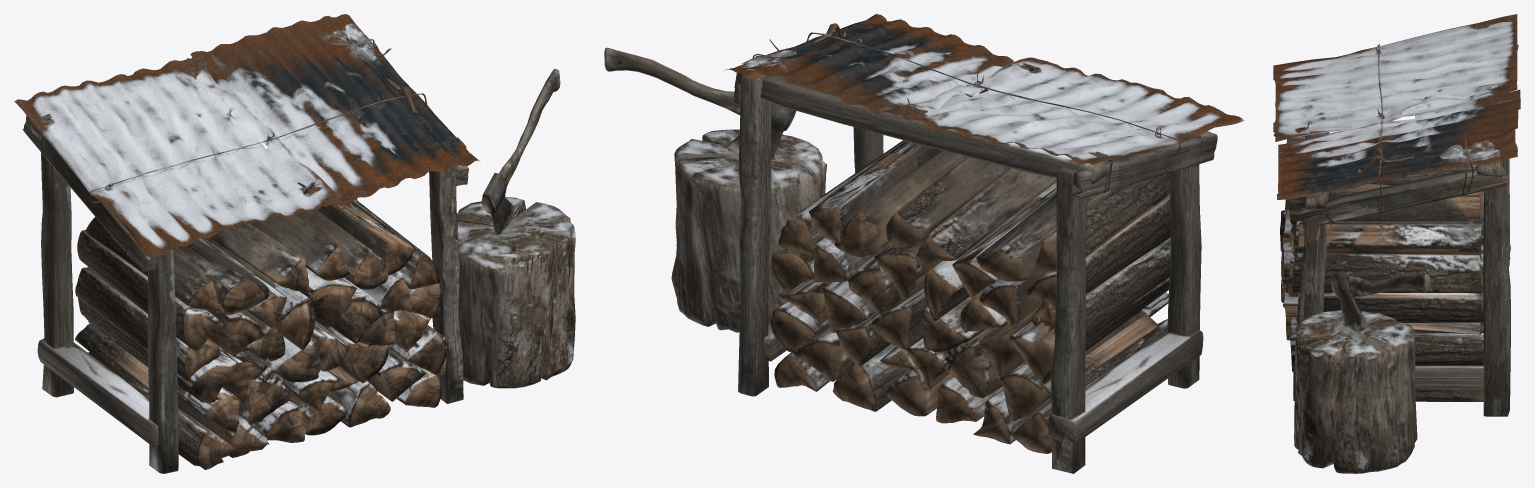
File: jt_firewood.glb
The picture shows the model from 3 angles, left to right: view 1: azimuth 30°, elevation 25°; view 2: azimuth 150°, elevation 25°; view 3: azimuth 270°, elevation 25°; orthographic projection. The views are drawn at different scales.
Bounding box in the file's own units: 0.9497 × 0.5522 × 0.4565.
1 material, 1 textured.
